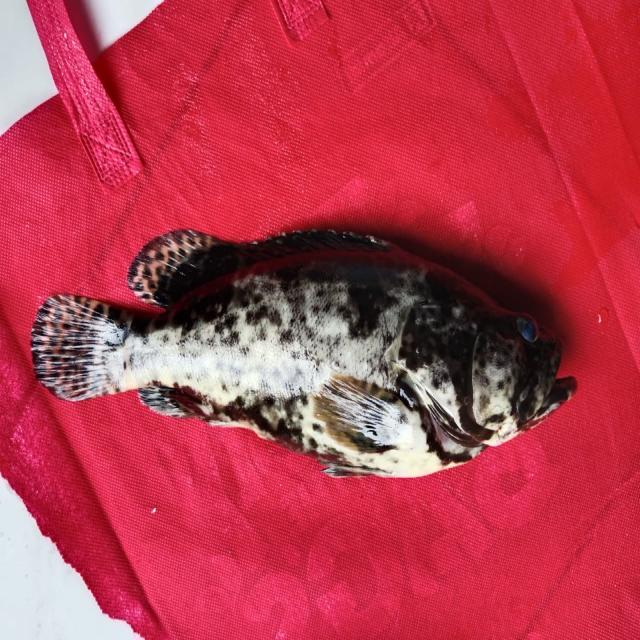ikan: (20, 204, 585, 487)
